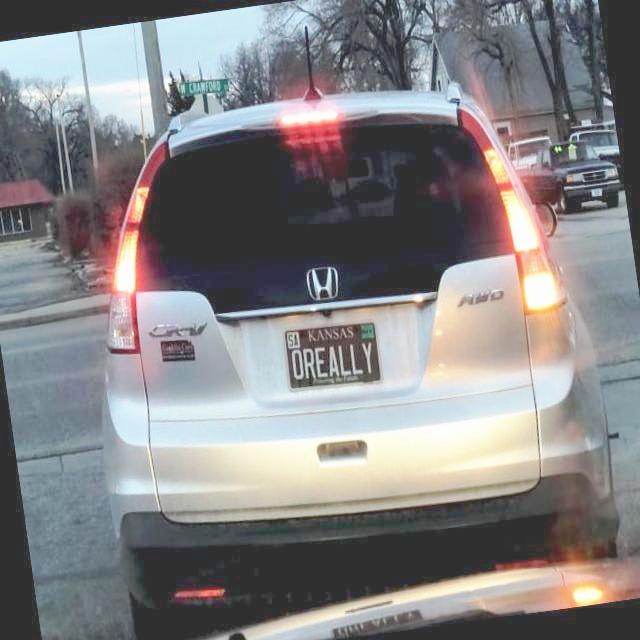license_plate: (284, 321, 384, 393)
